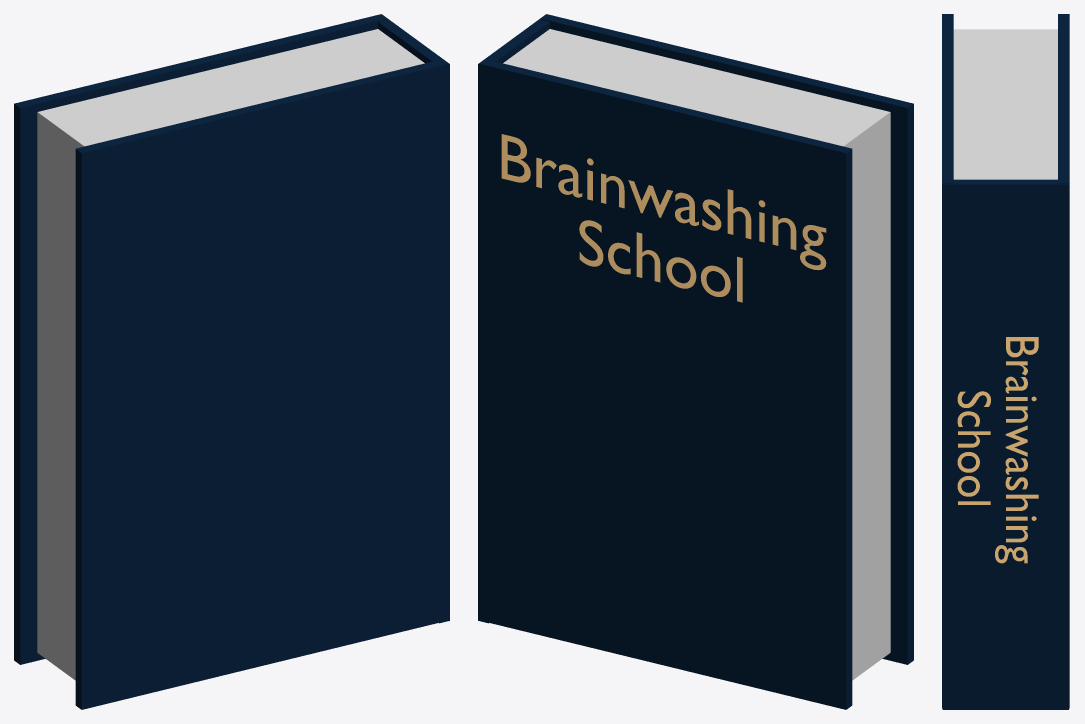
File: Book.fbx
3 views of the same model, side by side, from view 1: azimuth 30°, elevation 25°; view 2: azimuth 150°, elevation 25°; view 3: azimuth 270°, elevation 25° (orthographic). The views are drawn at different scales.
Parts seen in each view (by area): view 1: Cube.001, Cube.002, Cube, Cube.003; view 2: Cube, Cube.002, Cube.001, Text, Cube.003; view 3: Cube.003, Cube.002, Text.001, Cube, Cube.001.
Part boxes in pixels (x1,y1,x2,y2): Cube.001: (75,59,449,709); Cube.002: (37,29,424,680); Cube: (14,14,387,664); Cube.003: (378,19,449,623); Cube: (478,59,852,709); Cube.002: (503,29,890,680); Cube.001: (540,14,913,664); Text: (501,134,826,302); Cube.003: (478,19,549,623); Cube.003: (942,179,1068,709); Cube.002: (953,29,1057,179); Text.001: (957,337,1038,563); Cube: (1058,14,1069,708); Cube.001: (942,14,953,708).
Size of the model in its own units: 139 by 200 by 44.45.
